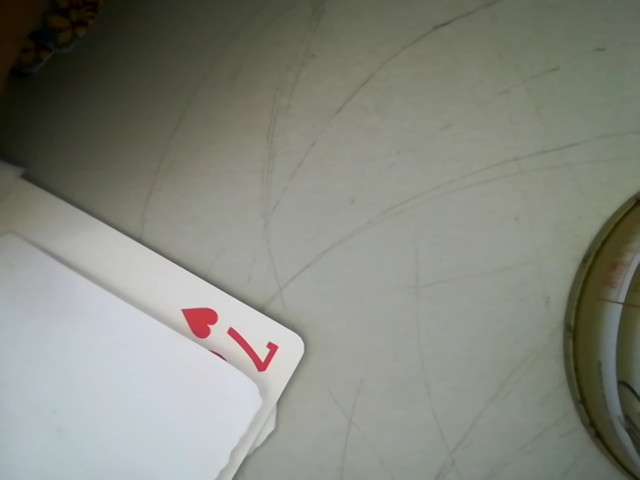hx 7: (169, 300, 294, 377)
